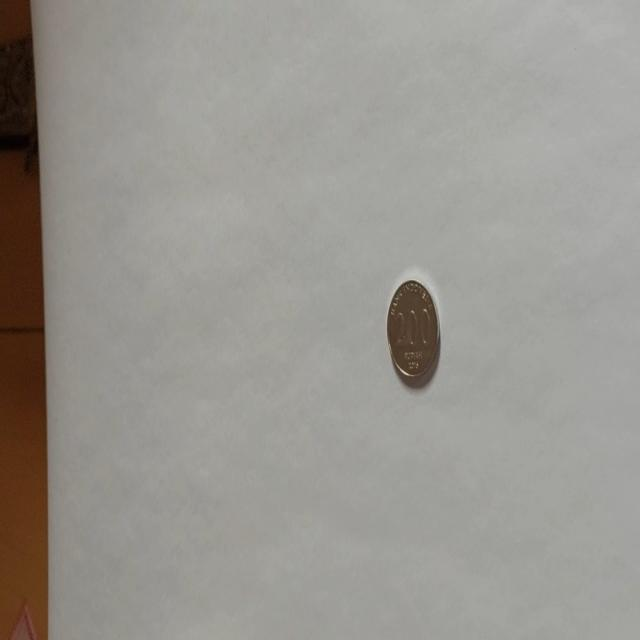dua ratus rupiah: (386, 276, 440, 384)
